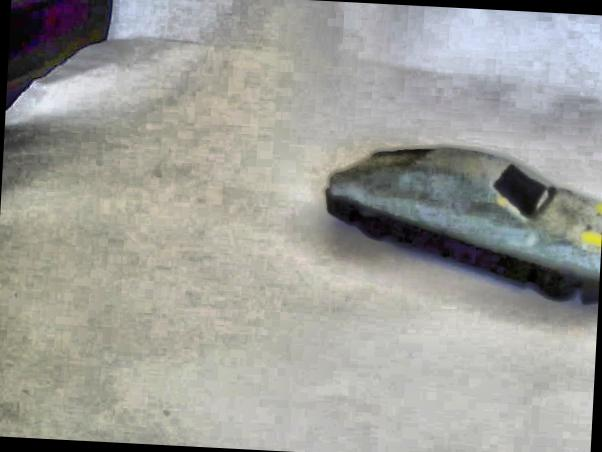normal_car: (311, 132, 602, 307)
